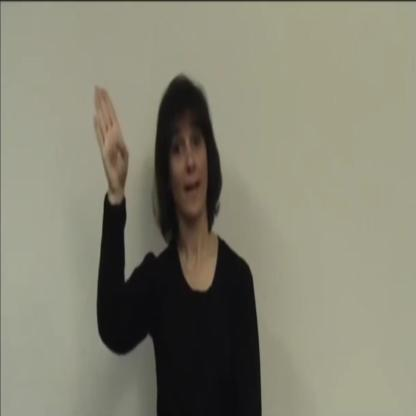Hello: (85, 69, 213, 268)
